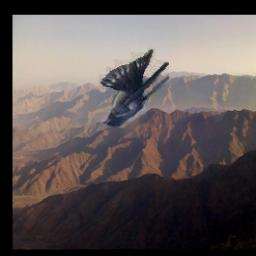Swallow: (98, 49, 169, 128)
